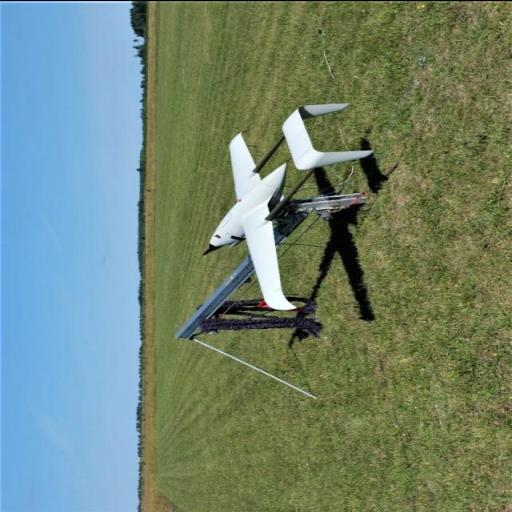uav: (200, 88, 366, 330)
